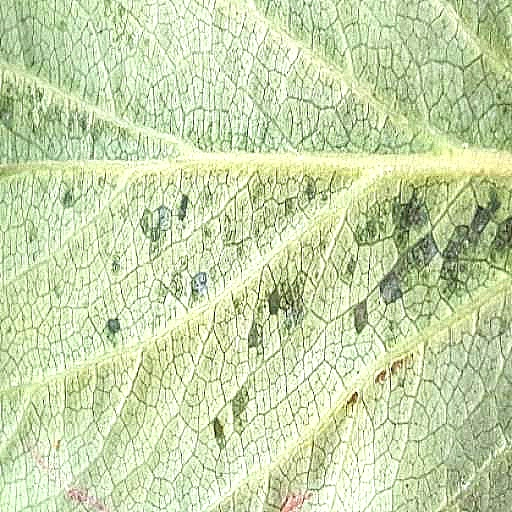Angular Leafspot: (7, 55, 511, 350)
